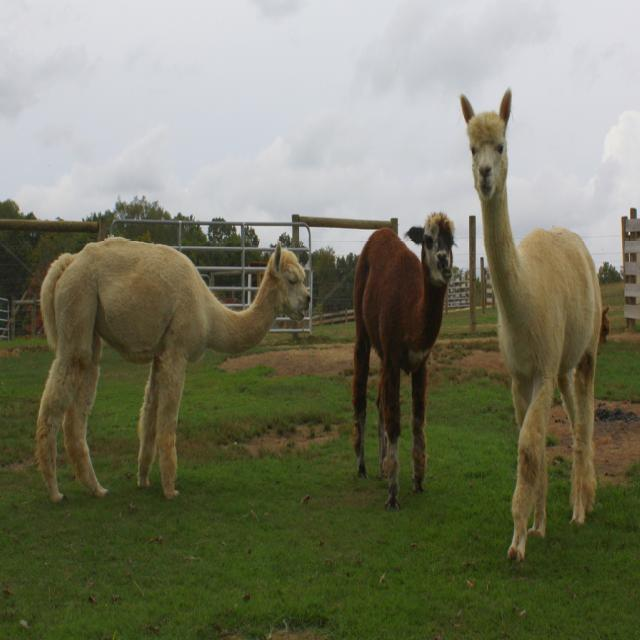alpaca: (39, 240, 312, 502), (461, 87, 598, 564), (351, 210, 455, 512)
